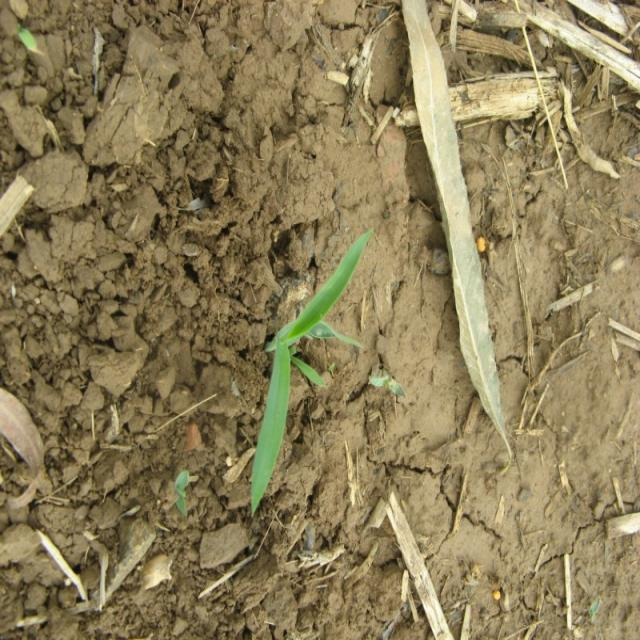bg: (250, 232, 371, 509)
